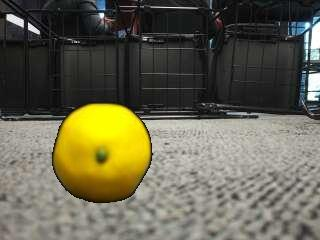lemon: (54, 103, 151, 203)
